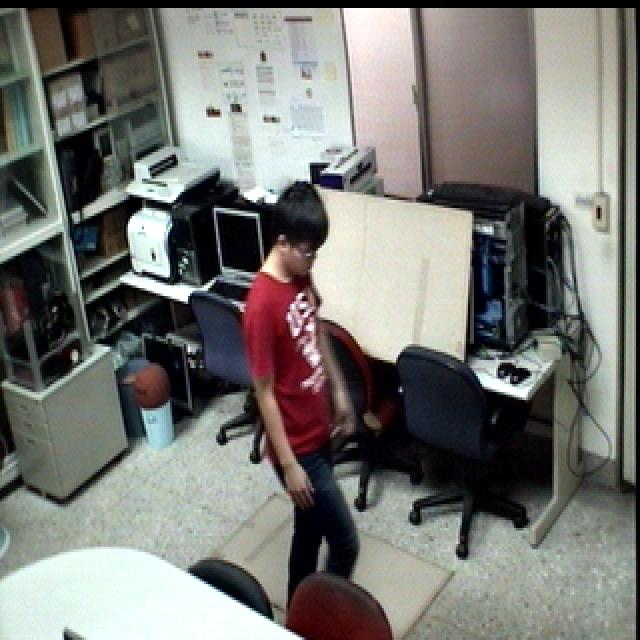stand: (232, 176, 366, 627)
